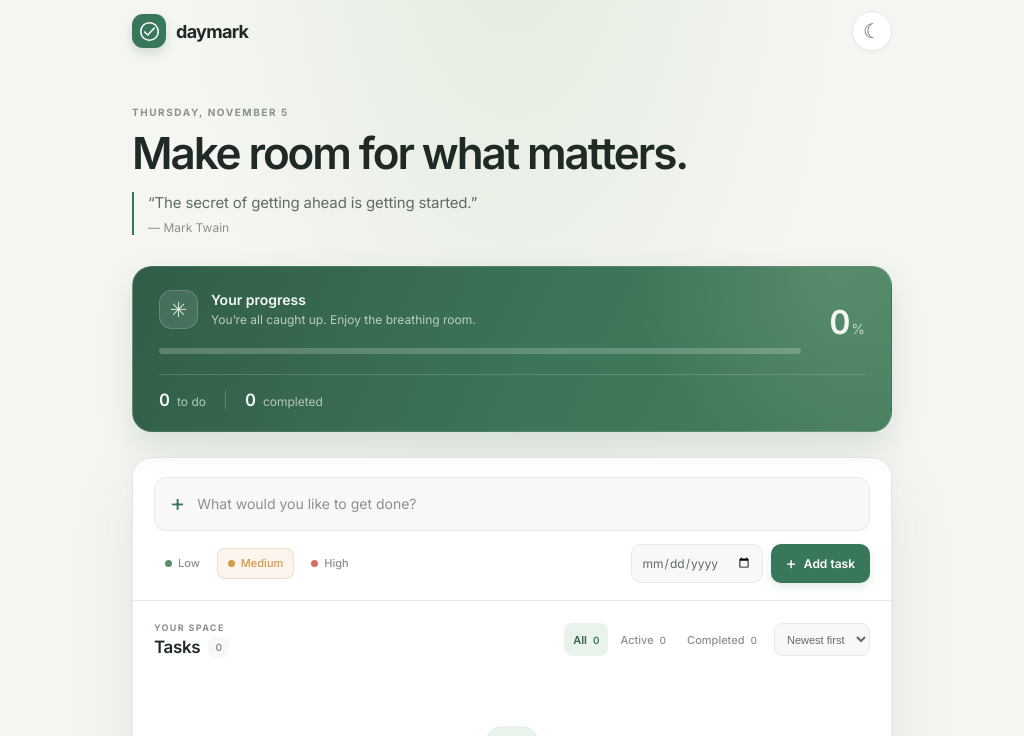
Test case: undoes clearing completed tasks
Type "Done one" into the field named "New task" at (526, 504), box [197, 480, 854, 527]
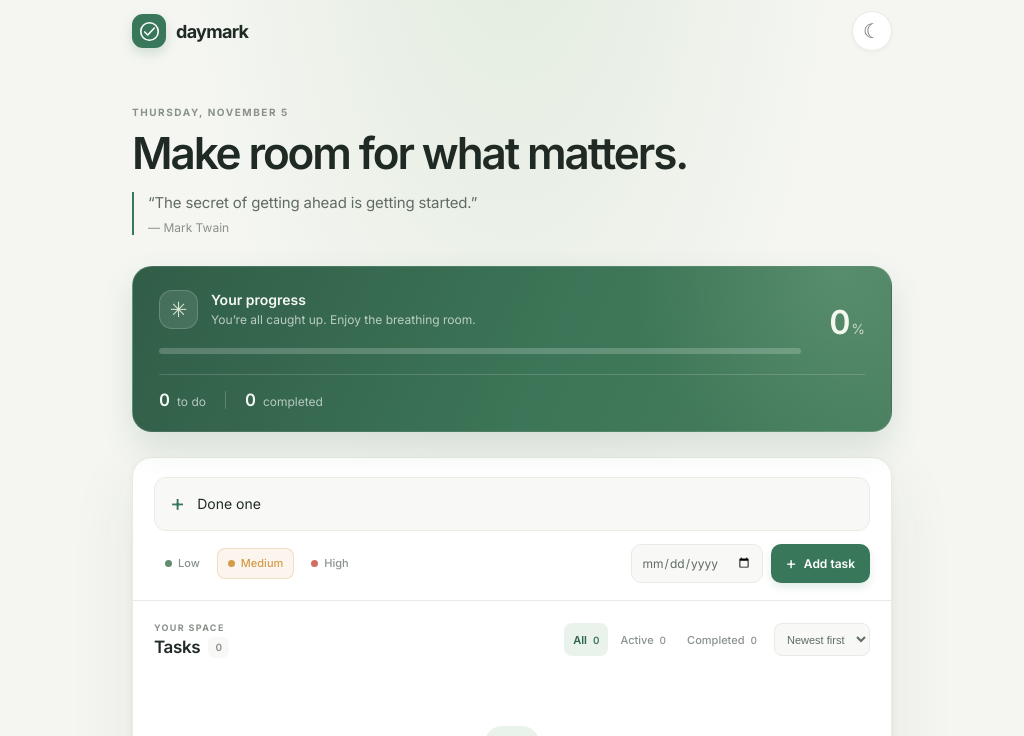
Click the button "+ Add task" at (820, 563), box [771, 544, 870, 583]
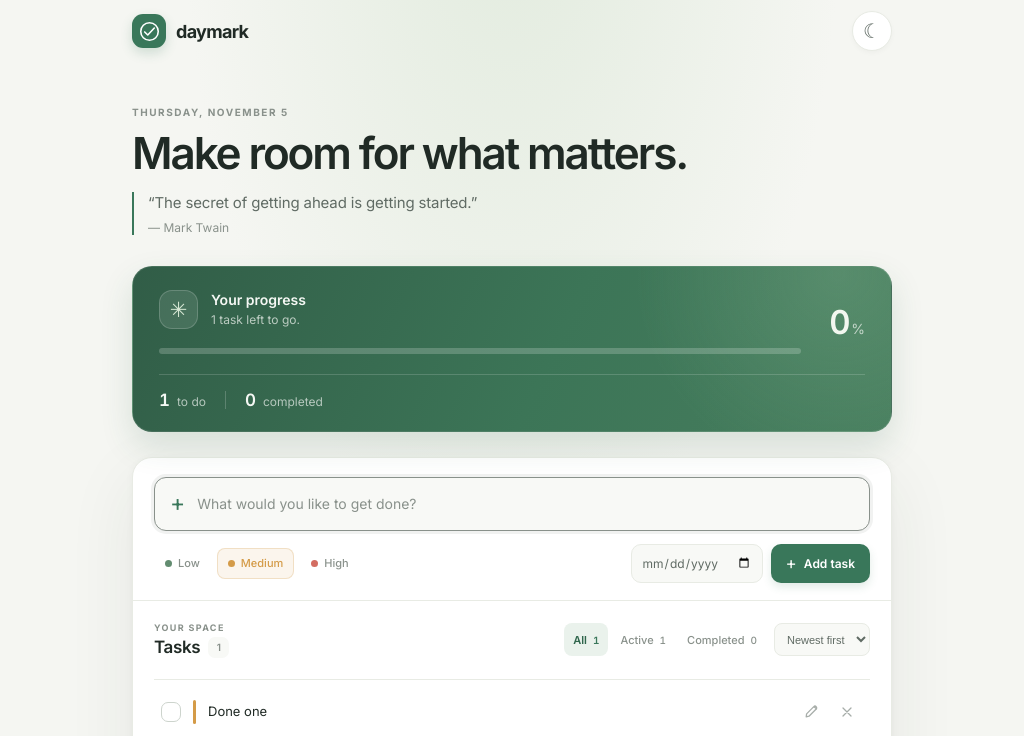
Click the button named "Complete Done one" at (171, 712), box [161, 702, 181, 722]
(page scrolled)
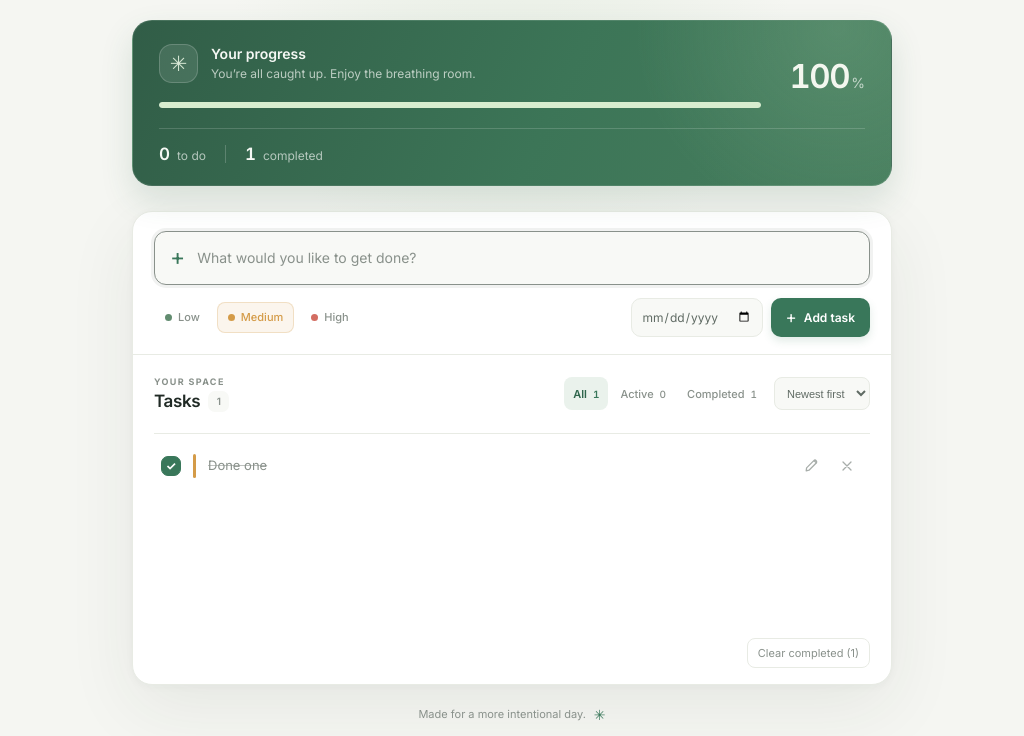
Click the button "Clear completed (1)" at (808, 653), box [747, 638, 870, 668]
(page scrolled)
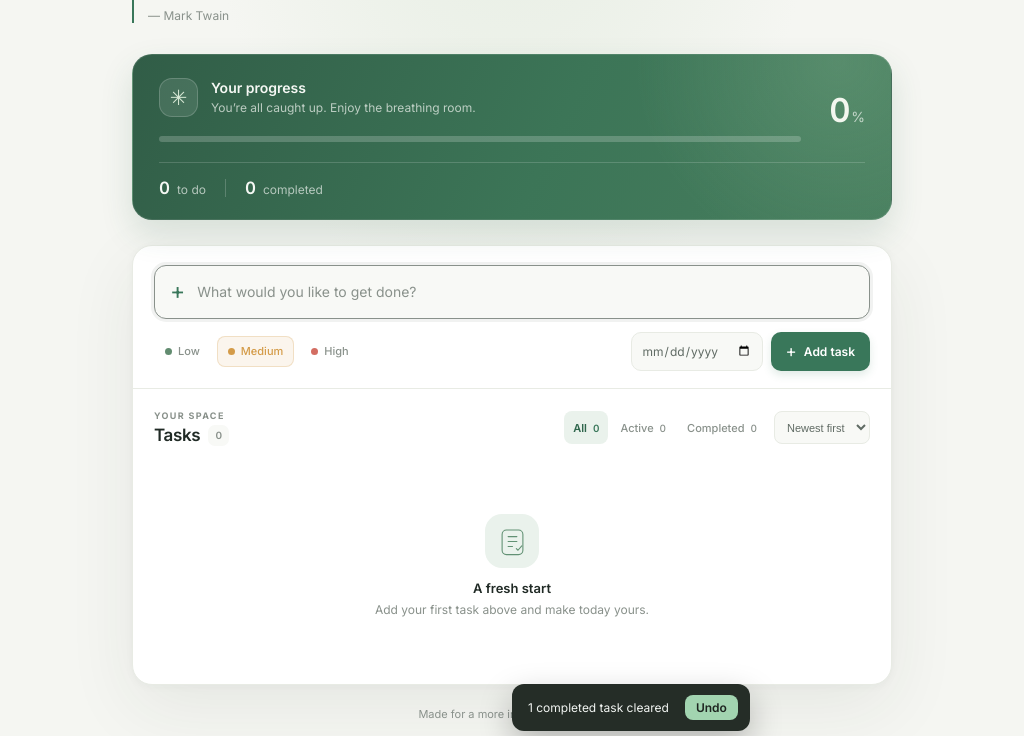
Now the text "Done one" is gone
Click the button "Undo" at (711, 708), box [685, 695, 738, 720]
(page scrolled)
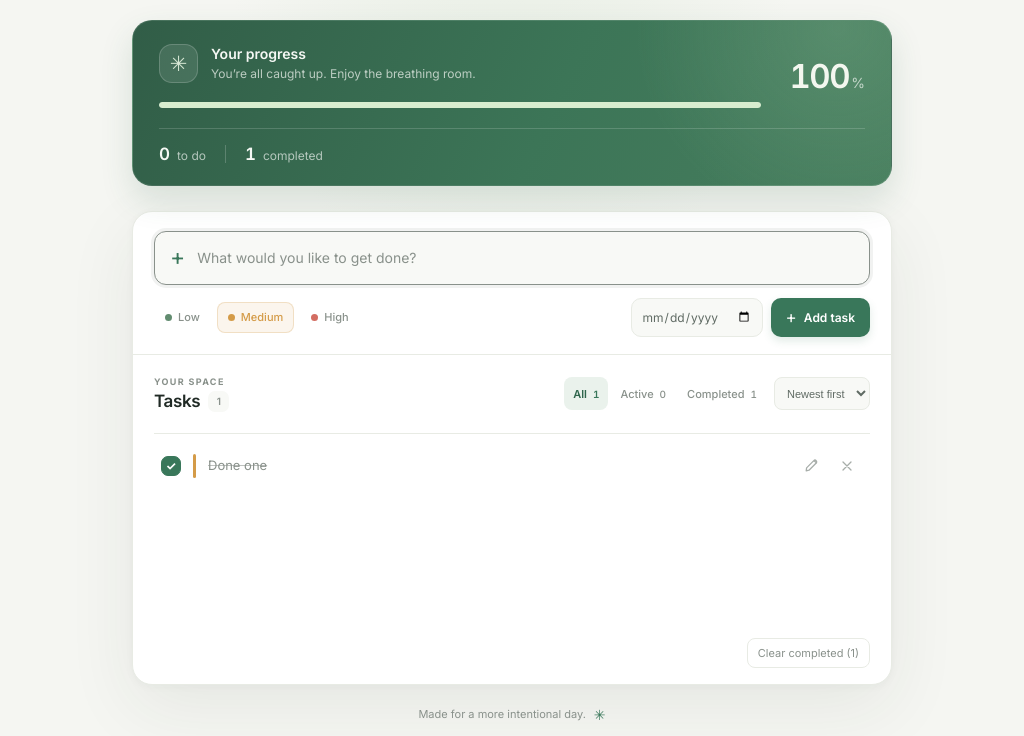
Now the text "Done one" is shown, box [208, 456, 267, 476]
